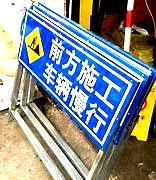sign: (19, 18, 125, 128)
